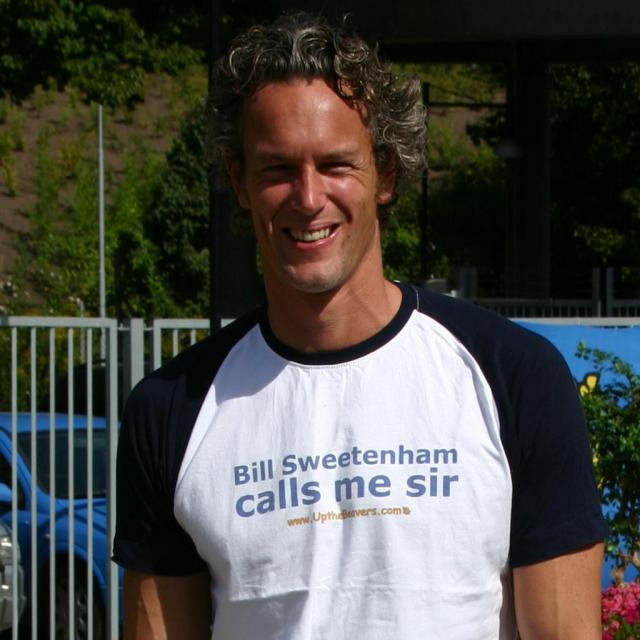Face: (236, 67, 376, 308)
